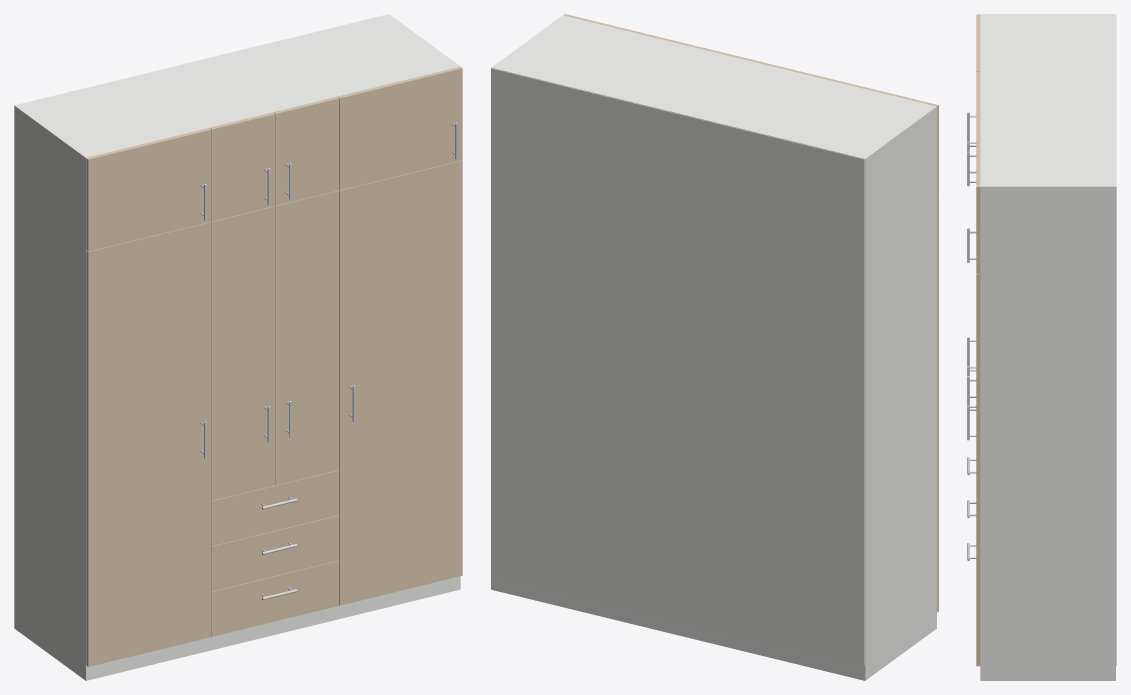
Rendered from wardrobe_full.glb.
3 renders of one model, left to right at view 1: azimuth 30°, elevation 25°; view 2: azimuth 150°, elevation 25°; view 3: azimuth 270°, elevation 25°, orthographic. The views are drawn at different scales.
Visible parts, largest first — view 1: 53:sections[0].doors.door[1], 59:sections[2].doors.door[1], 1:body.side.left, 3:body.top, 57:sections[1].doors.door[1], 58:sections[1].doors.door[2], 49:mezzanine.sections[0].doors.door[1], 52:mezzanine.sections[2].doors.door[1], 50:mezzanine.sections[1].doors.door[1], 51:mezzanine.sections[1].doors.door[2], 54:sections[1].fill[0].drawer[1].front, 56:sections[1].fill[0].drawer[3].front (+2 smaller); view 2: 60:body.back[1], 1:body.side.left, 3:body.top, 6:body.plinth.back, 2:body.side.right, 53:sections[0].doors.door[1]; view 3: 2:body.side.right, 3:body.top, 59:sections[2].doors.door[1], 52:mezzanine.sections[2].doors.door[1], 60:body.back[1], 49:mezzanine.sections[0].doors.door[1], 1:body.side.left.
Boxes of the visible parts, left/top/right/bottom form: 53:sections[0].doors.door[1]: left=86, top=222, right=211, bottom=666; 59:sections[2].doors.door[1]: left=339, top=160, right=462, bottom=605; 1:body.side.left: left=14, top=104, right=89, bottom=680; 3:body.top: left=18, top=15, right=457, bottom=157; 57:sections[1].doors.door[1]: left=211, top=206, right=275, bottom=500; 58:sections[1].doors.door[2]: left=275, top=190, right=338, bottom=485; 49:mezzanine.sections[0].doors.door[1]: left=86, top=128, right=211, bottom=251; 52:mezzanine.sections[2].doors.door[1]: left=337, top=67, right=462, bottom=190; 50:mezzanine.sections[1].doors.door[1]: left=210, top=112, right=275, bottom=221; 51:mezzanine.sections[1].doors.door[2]: left=273, top=97, right=338, bottom=205; 54:sections[1].fill[0].drawer[1].front: left=211, top=560, right=338, bottom=636; 56:sections[1].fill[0].drawer[3].front: left=211, top=470, right=338, bottom=545; 60:body.back[1]: left=491, top=68, right=864, bottom=665; 1:body.side.left: left=862, top=106, right=936, bottom=680; 3:body.top: left=494, top=16, right=932, bottom=158; 6:body.plinth.back: left=494, top=575, right=861, bottom=679; 2:body.side.right: left=491, top=15, right=565, bottom=590; 53:sections[0].doors.door[1]: left=937, top=197, right=938, bottom=612; 2:body.side.right: left=980, top=185, right=1115, bottom=680; 3:body.top: left=980, top=15, right=1115, bottom=185; 59:sections[2].doors.door[1]: left=976, top=273, right=980, bottom=666; 52:mezzanine.sections[2].doors.door[1]: left=976, top=130, right=980, bottom=273; 60:body.back[1]: left=1116, top=14, right=1116, bottom=665; 49:mezzanine.sections[0].doors.door[1]: left=976, top=14, right=980, bottom=71; 1:body.side.left: left=980, top=14, right=1115, bottom=15.
Bounding box in the file's own units: 1.8 × 2.4 × 0.6578.
